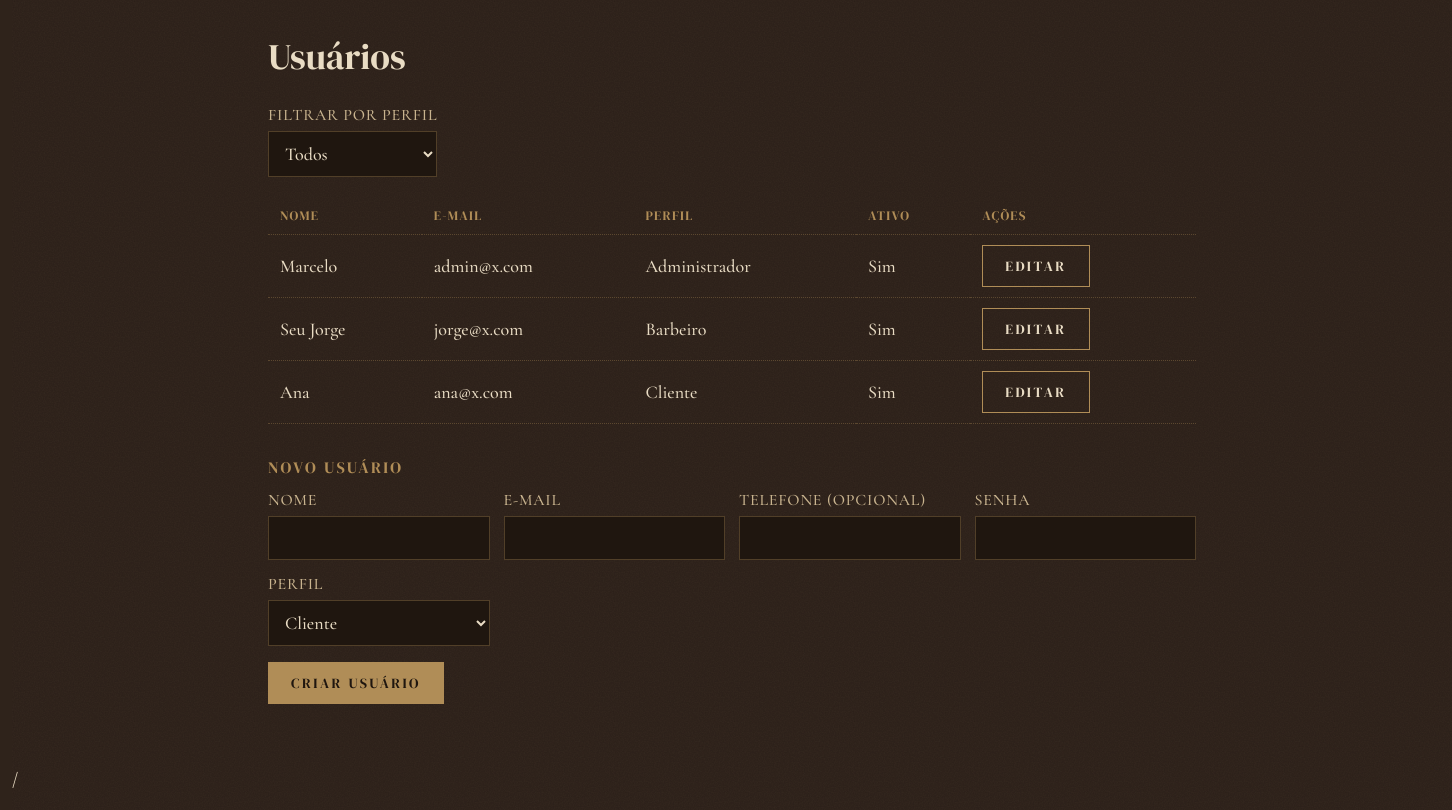
Admin Users › lists users with role labels and filters by role
Expected: the text "Barbeiro" is shown, [633,298,856,360]
Step 1. Select "Cliente" in the dropdown labelled "Filtrar por perfil" → point(353, 154), box [268,131,437,177]
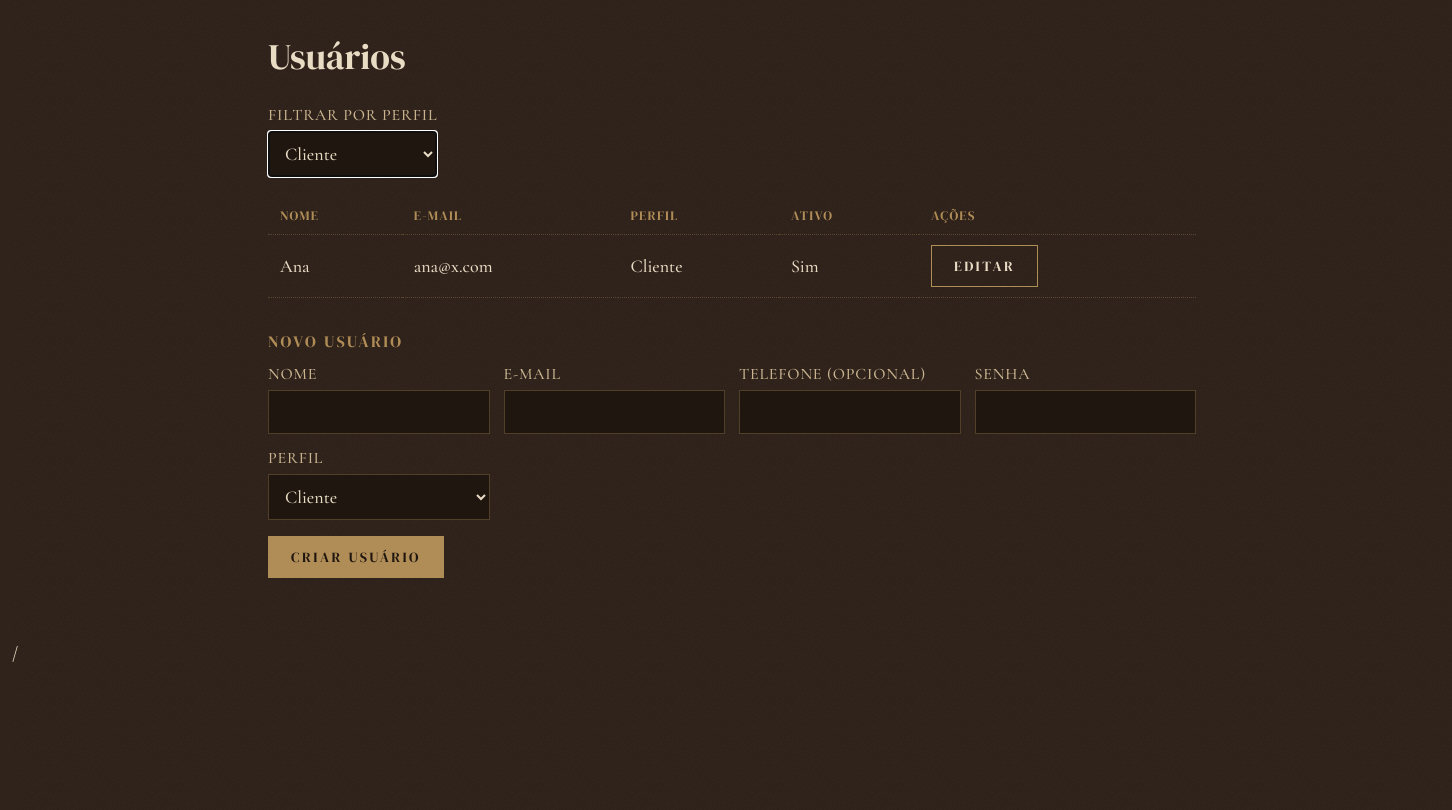
Expected: the cell "Ana" is shown, [268,234,402,298]
Now the cell "Seu Jorge" is gone
